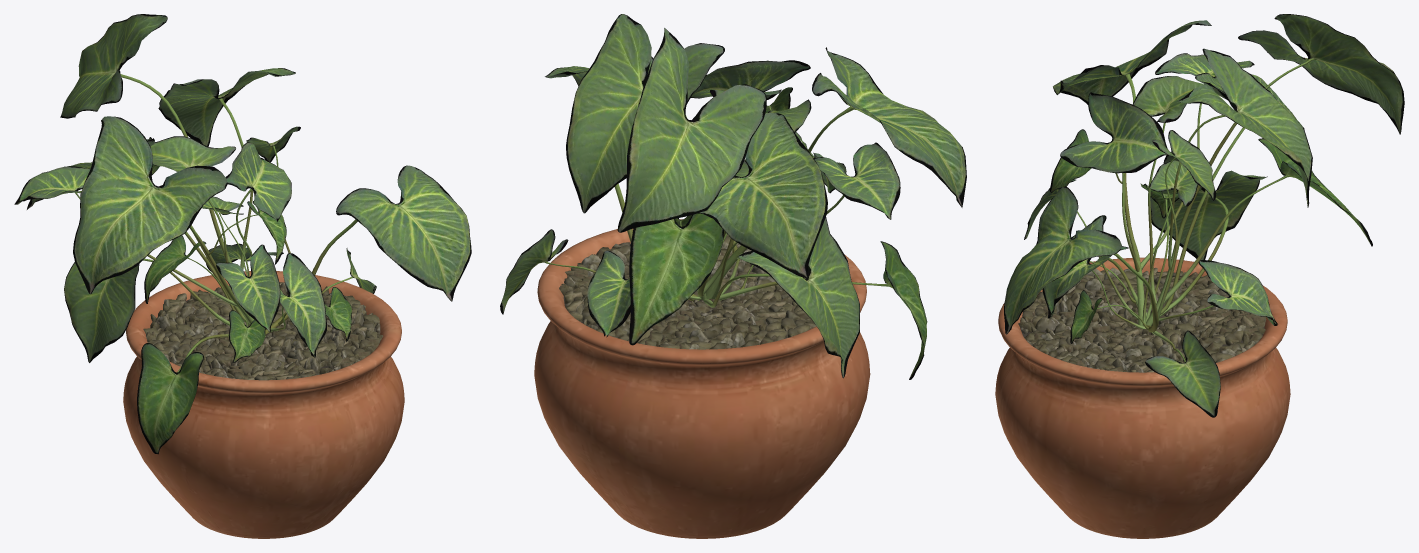
Rendered from potted_plant_02.glb.
3 views of the same model, side by side, from view 1: azimuth 30°, elevation 25°; view 2: azimuth 150°, elevation 25°; view 3: azimuth 270°, elevation 25° (orthographic). The views are drawn at different scales.
Visible parts, largest first — view 1: potted_plant_02_leaves, potted_plant_02_pot; view 2: potted_plant_02_leaves, potted_plant_02_pot; view 3: potted_plant_02_pot, potted_plant_02_leaves.
Boxes of the visible parts, x1,y1,x2,y2 form: potted_plant_02_leaves: [14, 14, 471, 454]; potted_plant_02_pot: [123, 271, 404, 538]; potted_plant_02_leaves: [500, 14, 966, 379]; potted_plant_02_pot: [534, 219, 870, 538]; potted_plant_02_pot: [995, 257, 1290, 538]; potted_plant_02_leaves: [1004, 14, 1404, 417].
Bounding box in the file's own units: 0.7012 × 0.8412 × 0.6574.
Materials: 2 (2 with a texture image).
